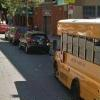Bus: (53, 15, 100, 100)
